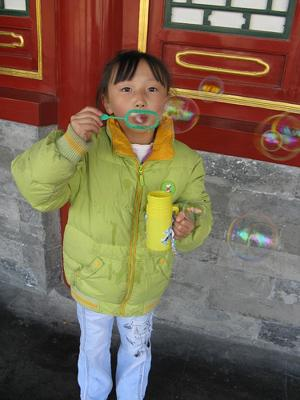person: (10, 50, 214, 398)
